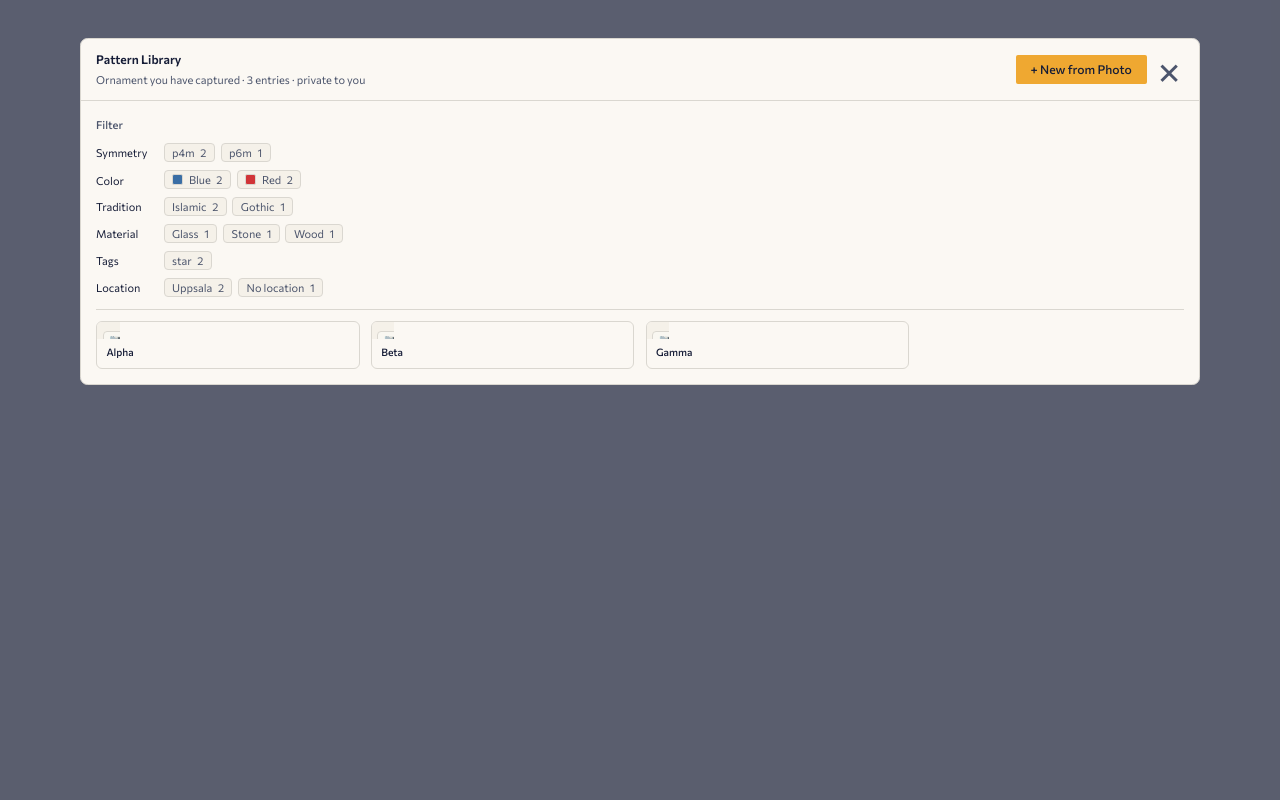
facet rail — single + combined filtering › toggling a chip off restores the grid
The width and height of the screenshot is (1280, 800).
Click the button with test id "facet-chip-material-glass".
click(190, 234)  # box [164, 224, 217, 243]
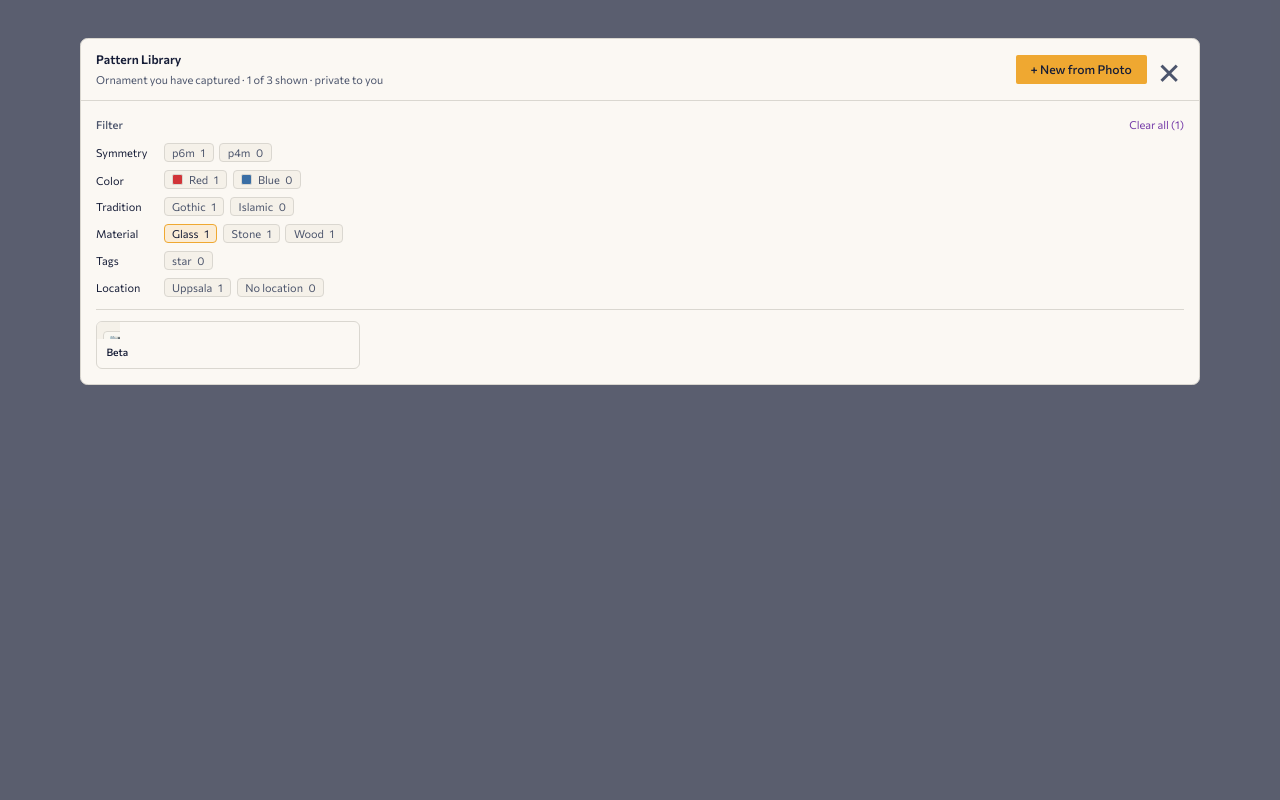
expect the number of buttons with test id "library-card" is 1: met, box [96, 321, 360, 369]
Click the button with test id "facet-chip-material-glass".
click(190, 234)  # box [164, 224, 217, 243]
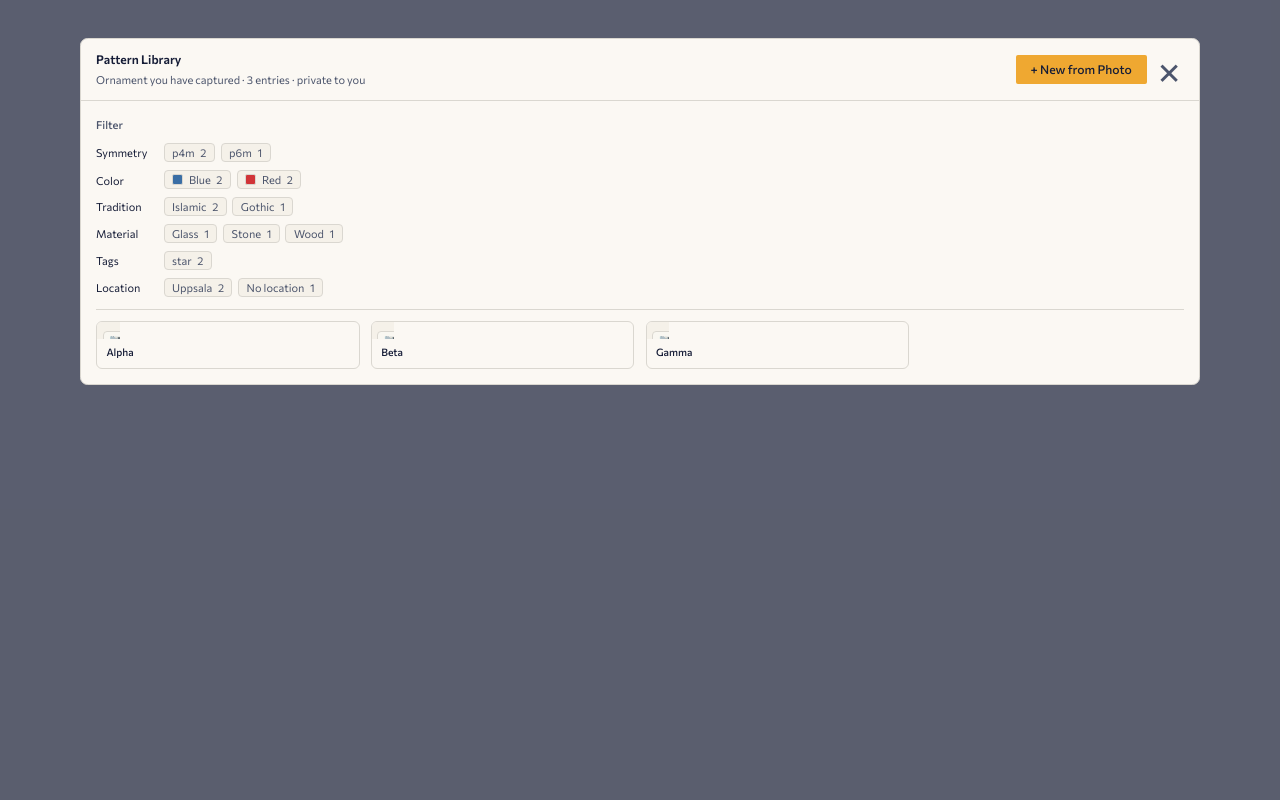
expect the number of buttons with test id "library-card" is 3: met, box [96, 321, 360, 369]; [371, 321, 634, 369]; [646, 321, 909, 369]
